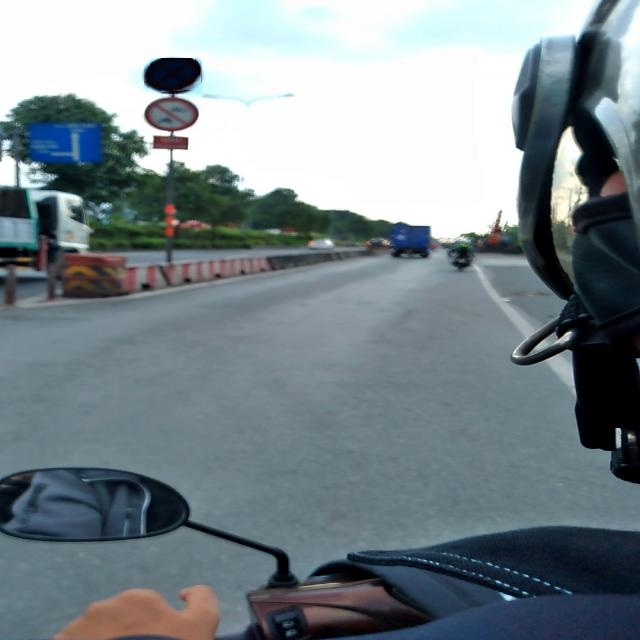bien_cam: (144, 58, 202, 94)
